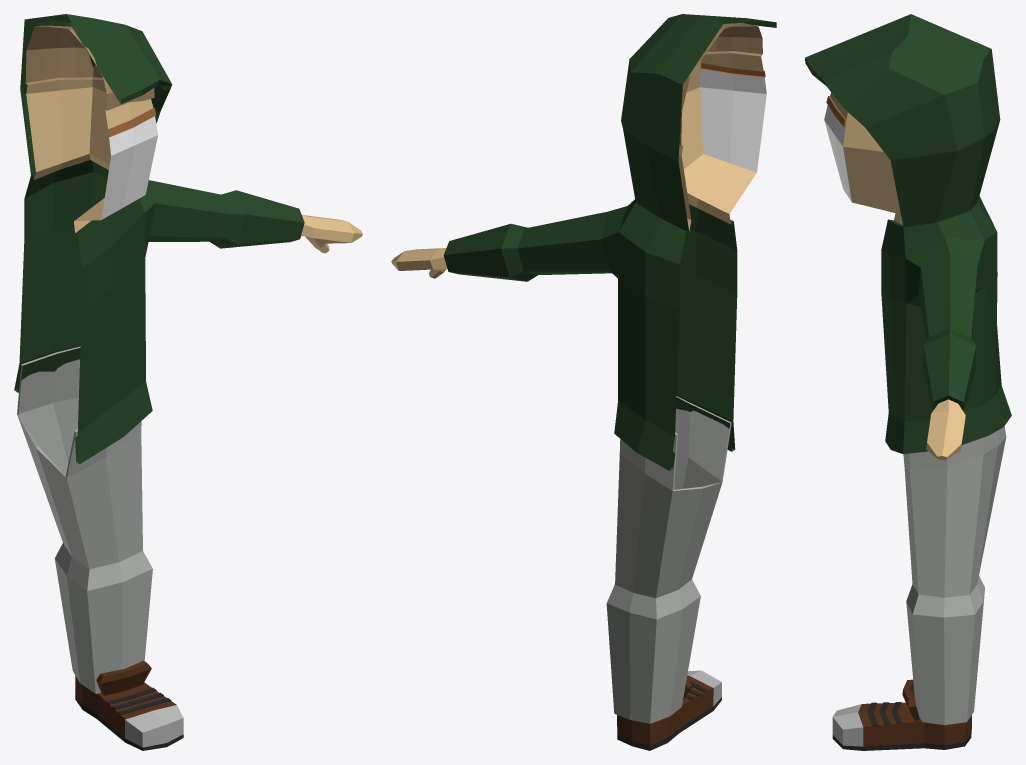
The model's file is personAvatar.gltf.
The picture shows the model from 3 angles, left to right: view 1: azimuth 30°, elevation 25°; view 2: azimuth 150°, elevation 25°; view 3: azimuth 270°, elevation 25°; orthographic projection. The views are drawn at different scales.
Visible parts, largest first — view 1: Cube.001; view 2: Cube.001; view 3: Cube.001.
Boxes of the visible parts, x1,y1,x2,y2 form: Cube.001: (14,14,362,750); Cube.001: (391,14,776,750); Cube.001: (805,14,1011,750).
Size of the model in its own units: 0.7787 by 1.69 by 0.4545.
